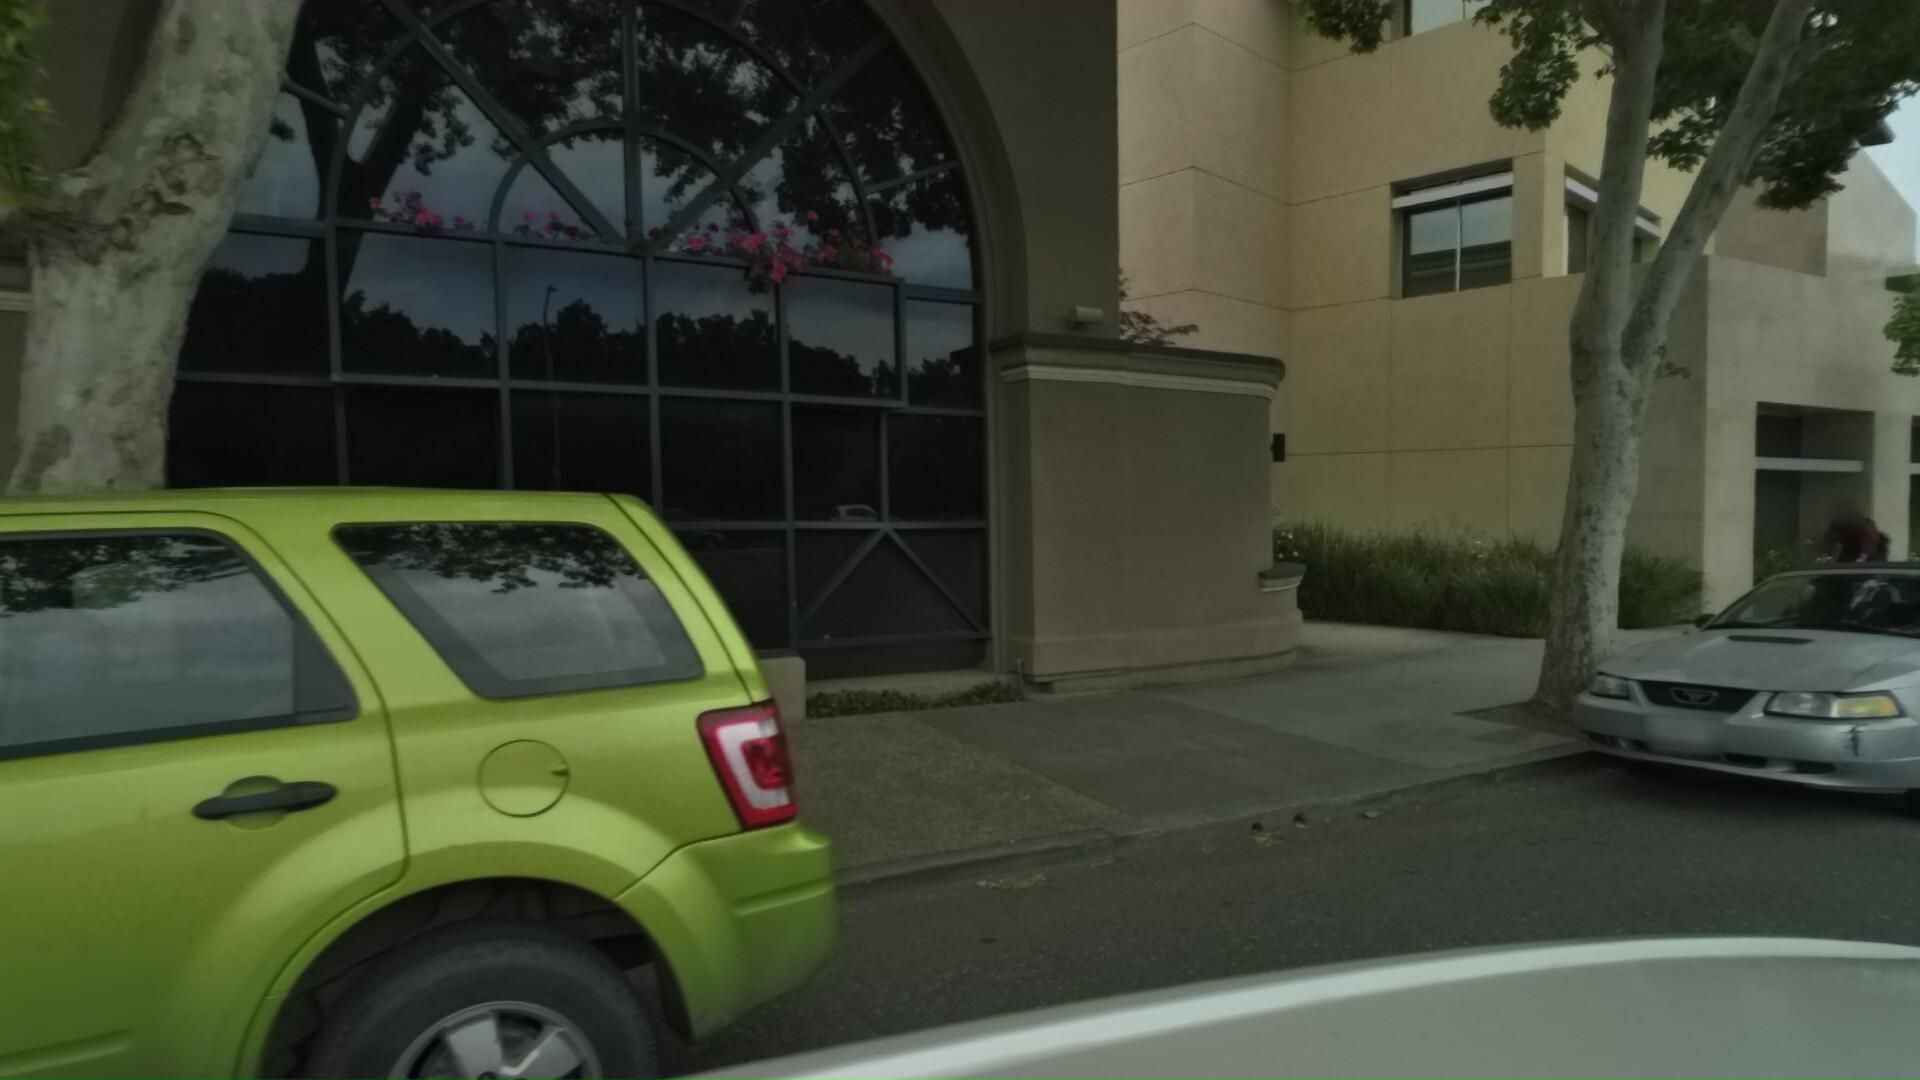bicycle: (1782, 477, 1920, 640)
car: (0, 462, 1113, 1080), (1549, 531, 1920, 862)
